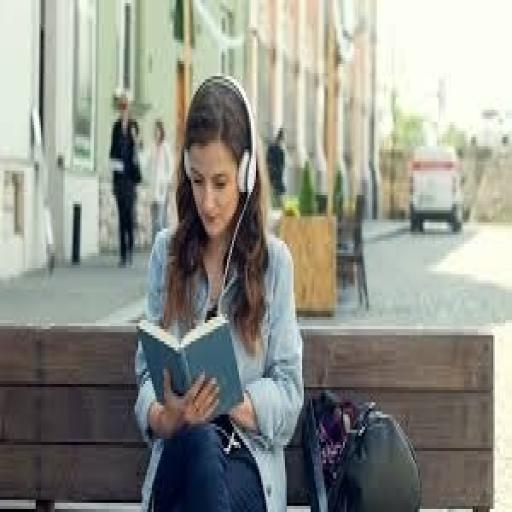listening_to_music: (133, 70, 307, 509)
